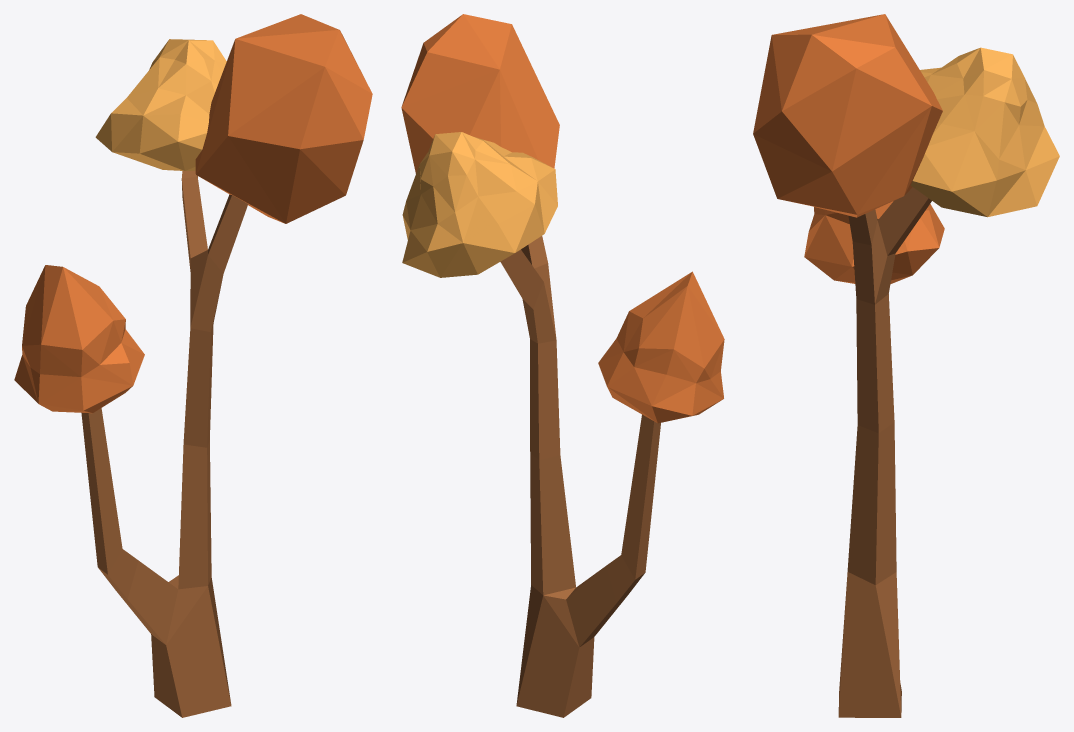
File: Tree_7.fbx
The picture shows the model from 3 angles, left to right: view 1: azimuth 30°, elevation 25°; view 2: azimuth 150°, elevation 25°; view 3: azimuth 270°, elevation 25°; orthographic projection. The views are drawn at different scales.
Visible parts, largest first — view 1: M_Tree 7; view 2: M_Tree 7; view 3: M_Tree 7.
Boxes of the visible parts, bbox=[...] form: M_Tree 7: bbox=[14, 14, 372, 717]; M_Tree 7: bbox=[401, 14, 724, 717]; M_Tree 7: bbox=[753, 14, 1059, 717].
Bounding box in the file's own units: 113 × 225 × 85.
Materials: 1 (1 with a texture image).
